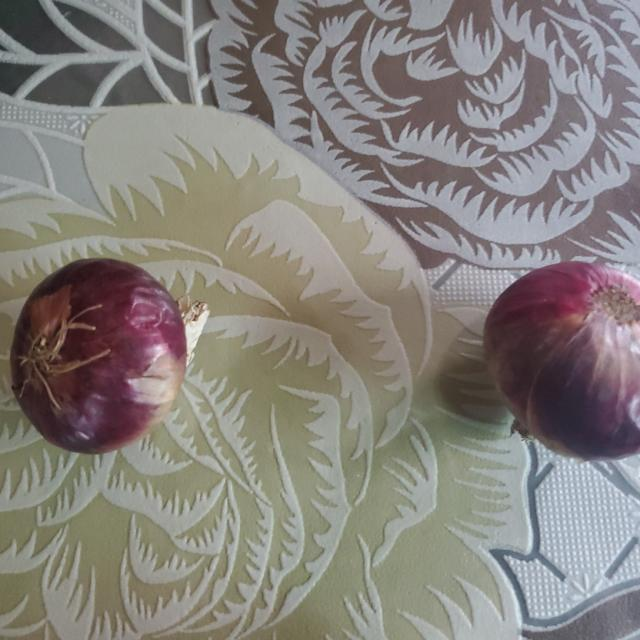onion: (13, 255, 192, 452), (486, 255, 640, 455)
